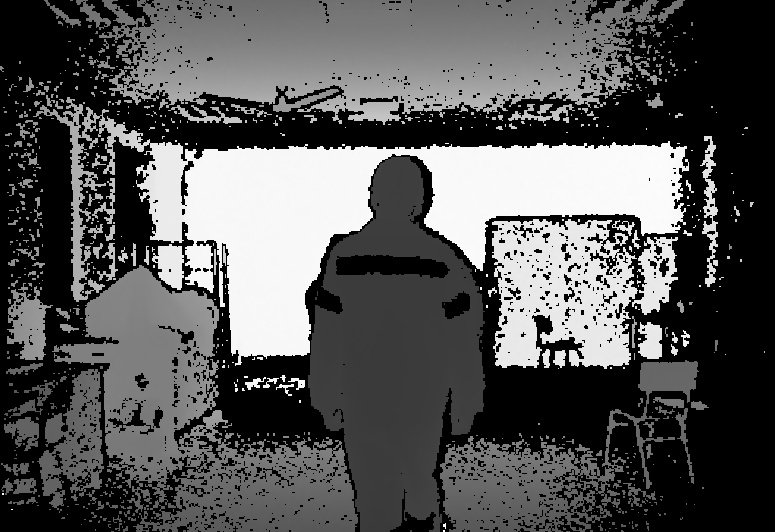person: (300, 154, 486, 532)
